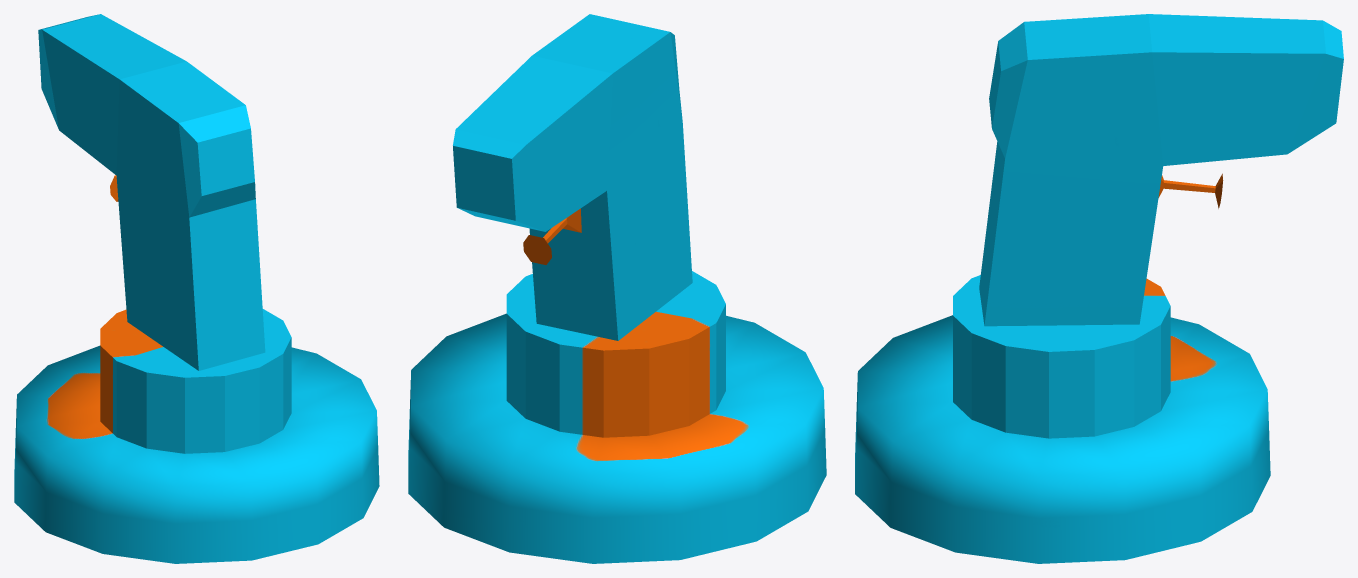
File: Waterpistole.FBX
The picture shows the model from 3 angles, left to right: view 1: azimuth 30°, elevation 25°; view 2: azimuth 150°, elevation 25°; view 3: azimuth 270°, elevation 25°; orthographic projection. The views are drawn at different scales.
Visible parts, largest first — view 1: Pistole Rotate, Pistole; view 2: Pistole Rotate, Pistole; view 3: Pistole Rotate, Pistole.
Part boxes in pixels (box(x1,y1,x2,y2)): Pistole Rotate: box(14, 309, 379, 563); Pistole: box(38, 14, 265, 370); Pistole Rotate: box(408, 271, 826, 563); Pistole: box(453, 14, 692, 340); Pistole Rotate: box(855, 275, 1270, 563); Pistole: box(979, 14, 1343, 326).
Size of the model in its own units: 3.51 by 4.09 by 4.11.
